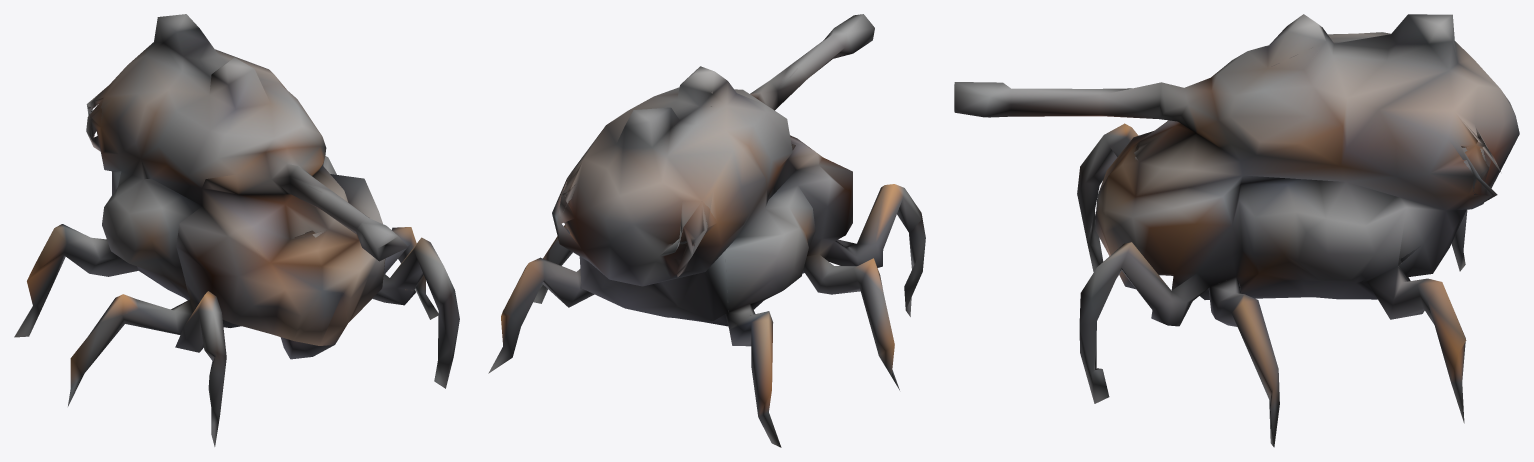
Rendered from 拟态源.fbx.
3 renders of one model, left to right at view 1: azimuth 30°, elevation 25°; view 2: azimuth 150°, elevation 25°; view 3: azimuth 270°, elevation 25°, orthographic. The views are drawn at different scales.
Parts seen in each view (by area): view 1: material.obj; view 2: material.obj; view 3: material.obj.
Boxes of the visible parts, <box> form: material.obj: <box>14,14,459,446</box>; material.obj: <box>488,14,925,447</box>; material.obj: <box>954,14,1519,447</box>.
Size of the model in its own units: 80.97 by 60.78 by 95.07.
Materials: 1 (1 with a texture image).
